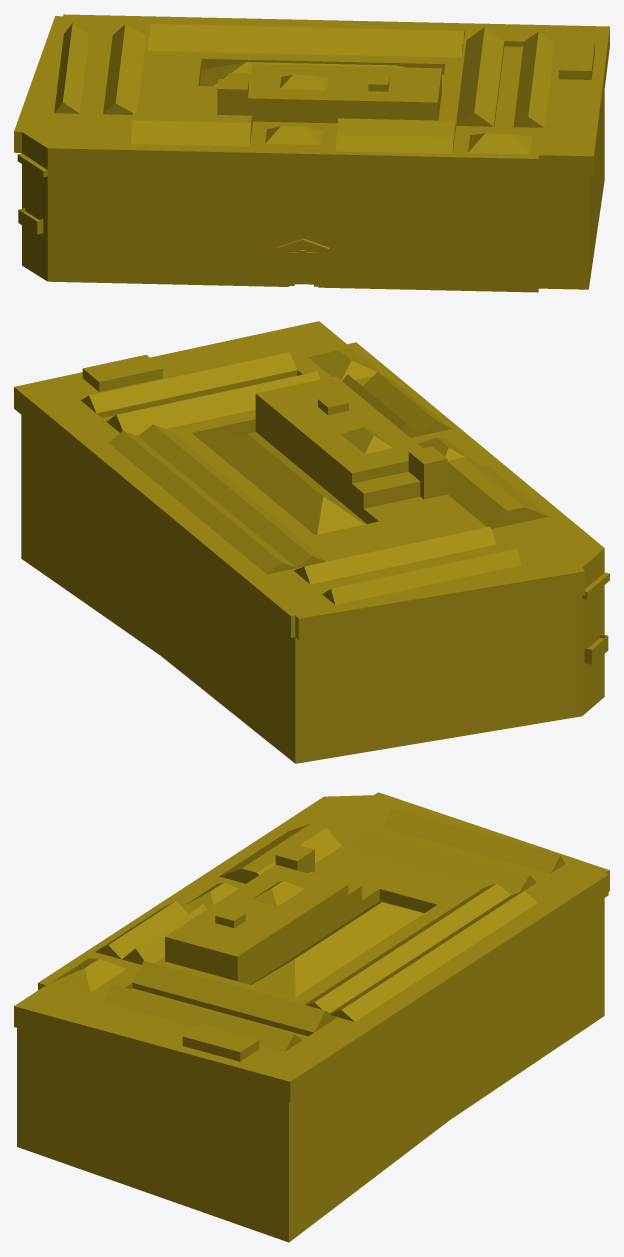
File: Sheffield Library.fbx
3 views of the same model, one above another, from view 1: azimuth 30°, elevation 25°; view 2: azimuth 150°, elevation 25°; view 3: azimuth 270°, elevation 25° (orthographic). The views are drawn at different scales.
Parts seen in each view (by area): view 1: Sheffield Library; view 2: Sheffield Library; view 3: Sheffield Library.
Boxes of the visible parts, x1,y1,x2,y2 form: Sheffield Library: [14, 14, 609, 292]; Sheffield Library: [14, 321, 609, 763]; Sheffield Library: [14, 792, 609, 1242].
Bounding box in the file's own units: 7019 × 2237 × 6098.
